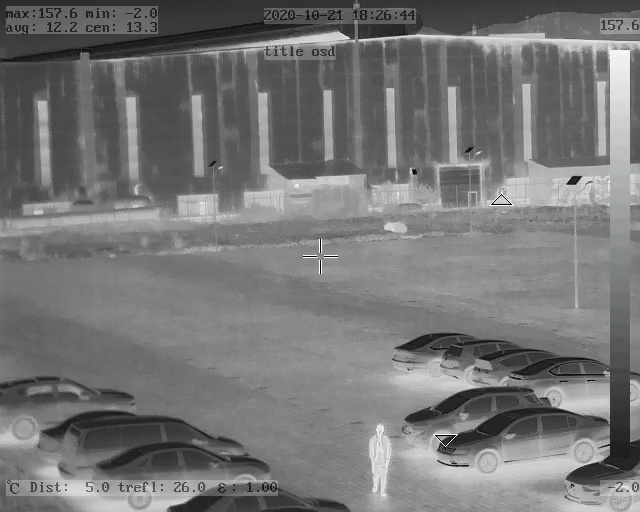person: (369, 423, 394, 491)
vehicle: (36, 415, 252, 473), (441, 409, 607, 476), (92, 447, 270, 506), (3, 377, 138, 439), (401, 384, 529, 442), (556, 442, 640, 510), (165, 485, 348, 512), (507, 360, 611, 405), (464, 344, 545, 387), (391, 328, 458, 371), (440, 336, 502, 378)
